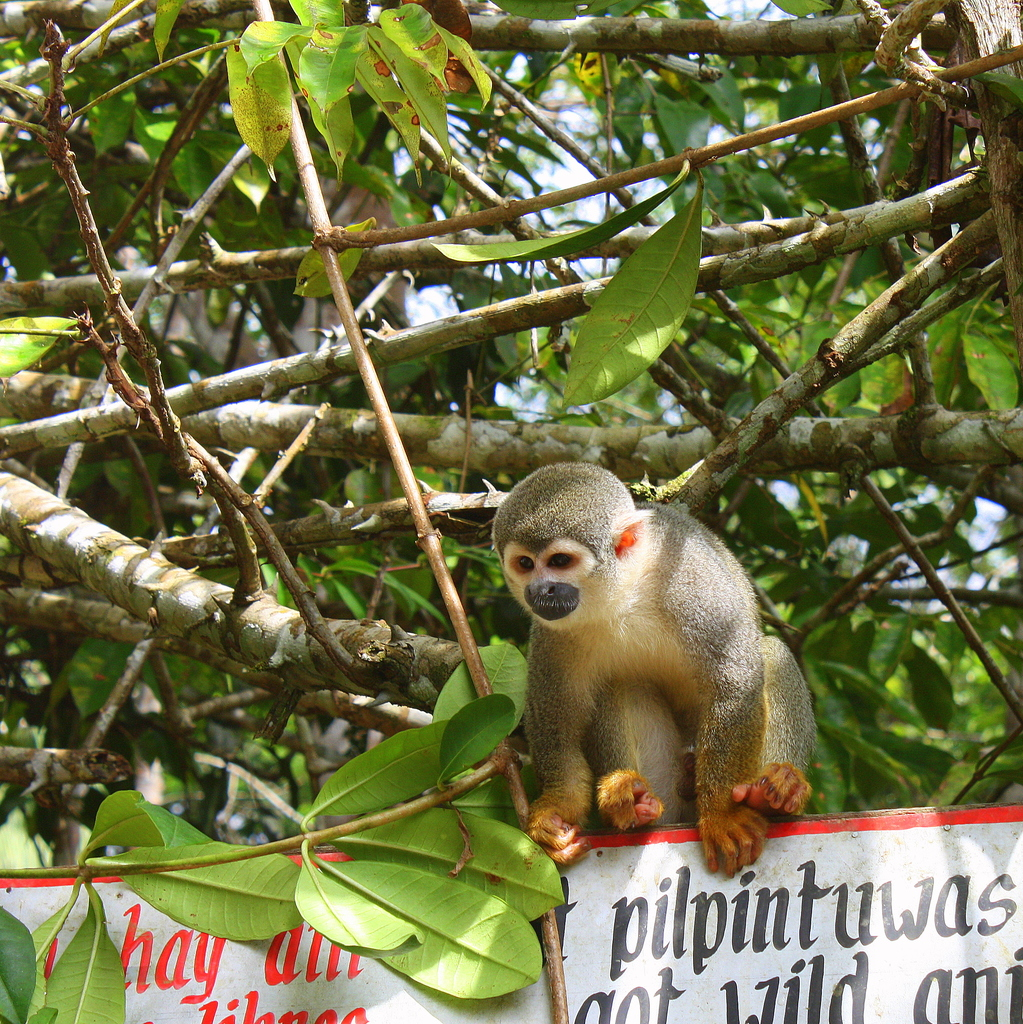Tree: (3, 0, 1023, 1024)
